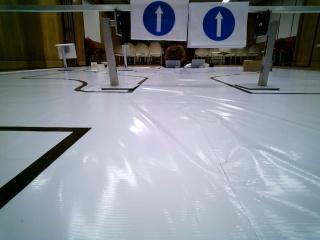straight: (192, 5, 245, 46), (131, 0, 185, 39)
